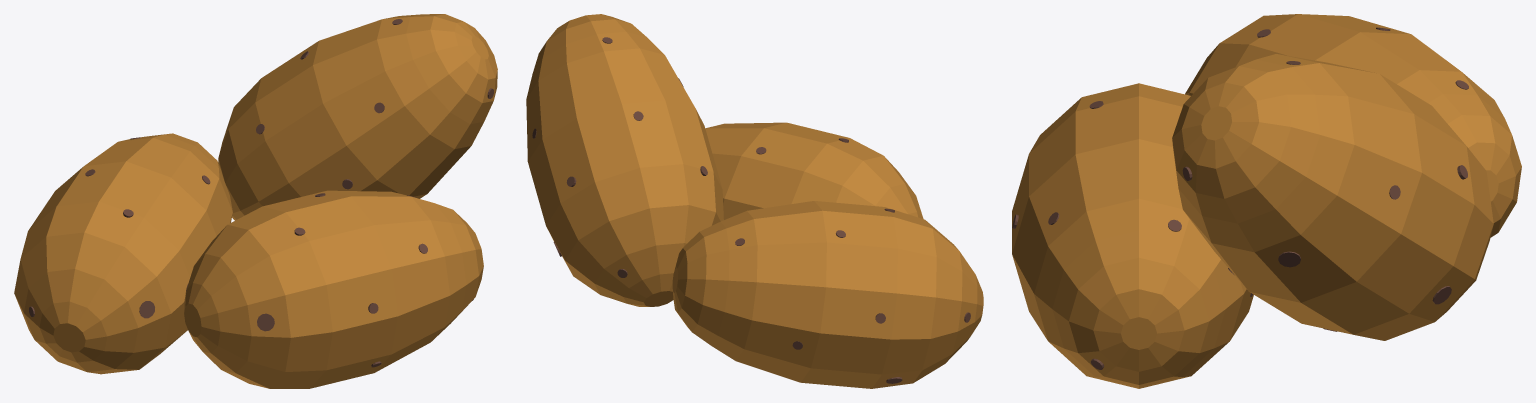
Rendered from kartoffel.glb.
3 views of the same model, side by side, from view 1: azimuth 30°, elevation 25°; view 2: azimuth 150°, elevation 25°; view 3: azimuth 270°, elevation 25° (orthographic). The views are drawn at different scales.
Visible parts, largest first — view 1: node_MeshObject-792429952-PolyPaper19; view 2: node_MeshObject-792429952-PolyPaper19; view 3: node_MeshObject-792429952-PolyPaper19.
Boxes of the visible parts, x1,y1,x2,y2 form: node_MeshObject-792429952-PolyPaper19: (14,14,497,388); node_MeshObject-792429952-PolyPaper19: (526,14,983,388); node_MeshObject-792429952-PolyPaper19: (1012,14,1521,388).
Size of the model in its own units: 0.9667 by 0.5845 by 0.7054.
